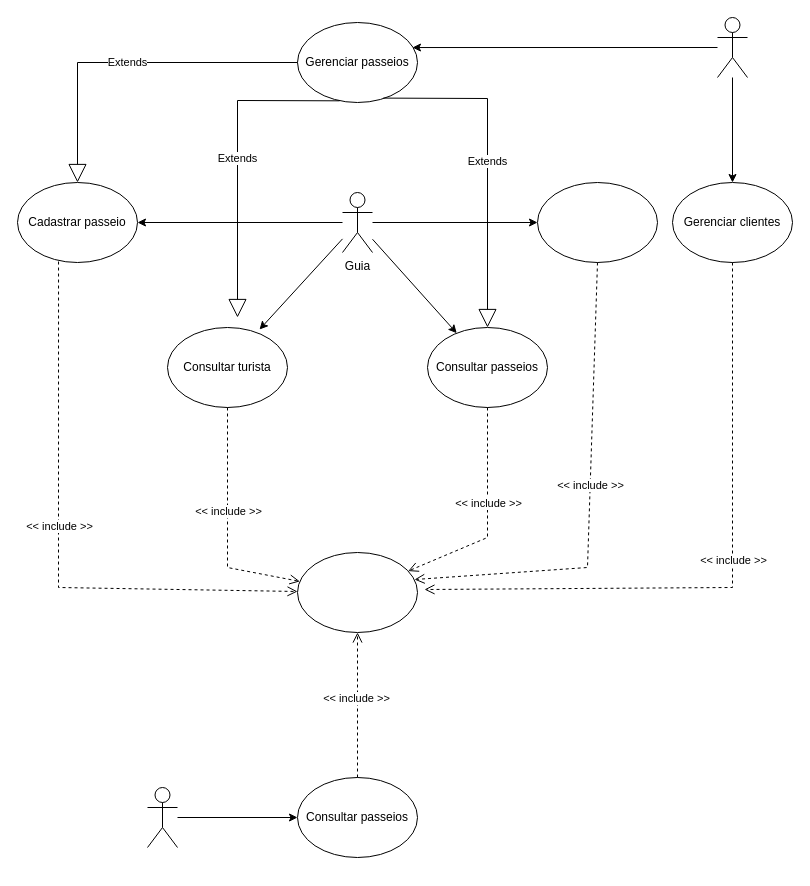
This 810x886 diagram has some shape labels left out. The shapes that lost their labels are listed below. From the top down, each one's box as (x1, y1, x2, y2) in pixels, then its label:
(716, 16, 748, 78): Administrador
(536, 182, 658, 262): Consultar Moedas
(296, 552, 418, 632): Efetuar o login
(146, 786, 178, 848): Turista
